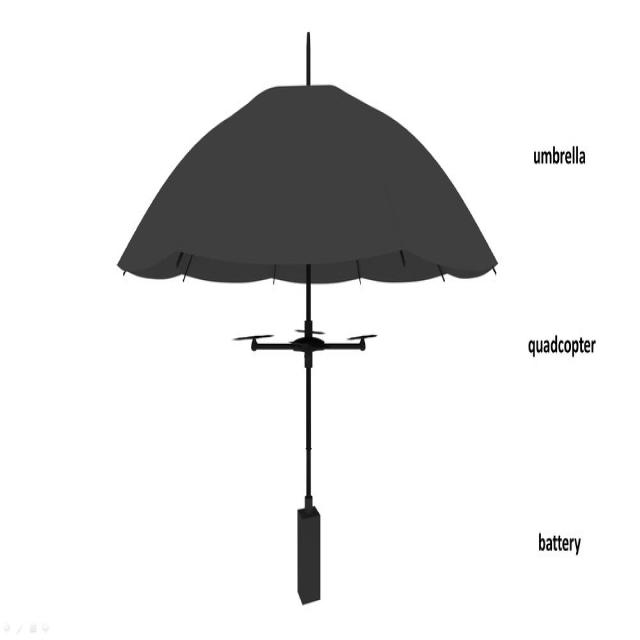drone: (237, 314, 379, 364)
